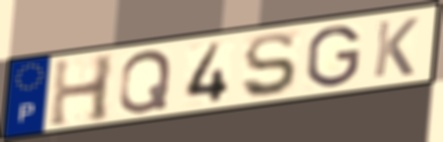4: (182, 39, 231, 105)
G: (304, 23, 363, 89)
H: (46, 52, 117, 131)
K: (370, 15, 421, 80)
Q: (116, 47, 174, 116)
S: (240, 30, 299, 100)
